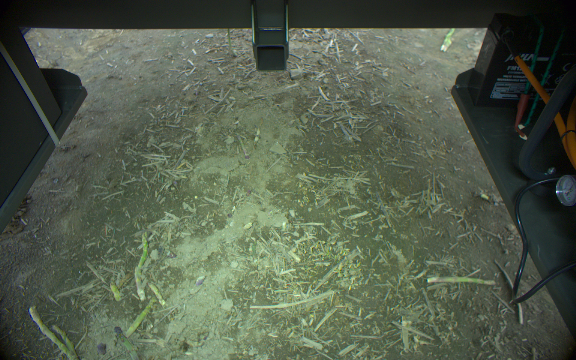aspa: (28, 304, 77, 360), (134, 231, 149, 301), (425, 274, 495, 287), (112, 324, 137, 360), (127, 301, 152, 337), (147, 282, 165, 306), (109, 282, 122, 302), (224, 27, 234, 52)
